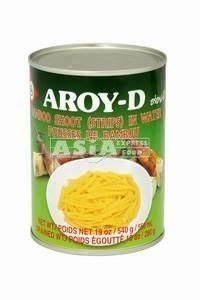metal: (29, 43, 167, 256)
